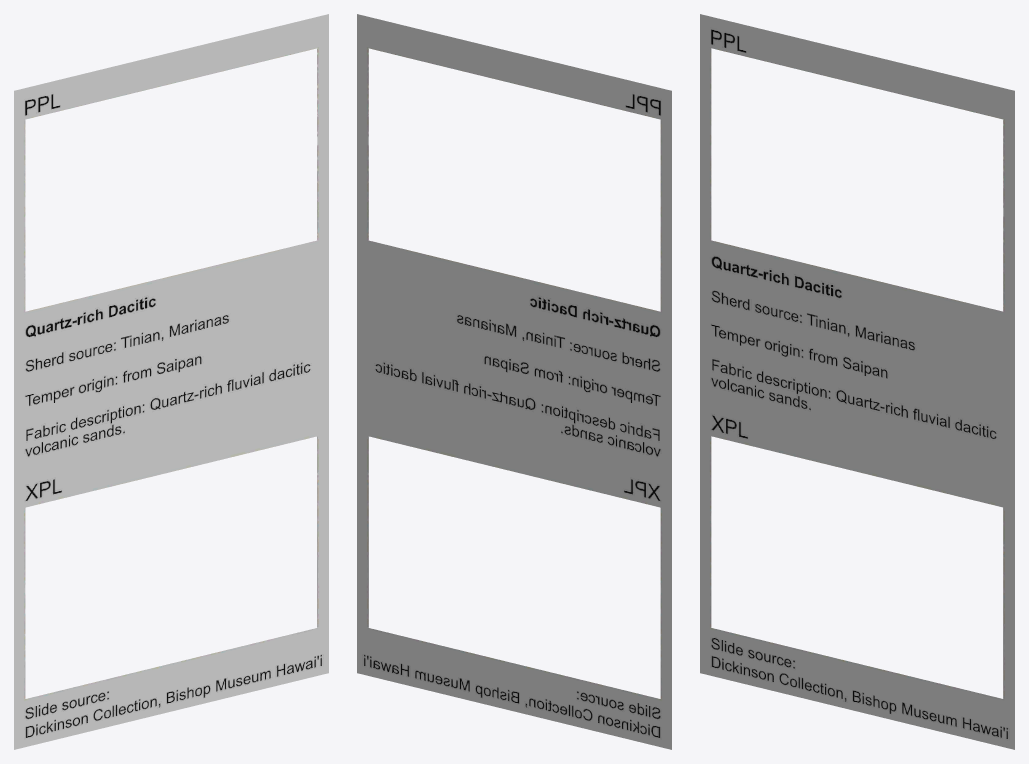
File: wd_2_14_frame.glb
The picture shows the model from 3 angles, left to right: view 1: azimuth 30°, elevation 25°; view 2: azimuth 150°, elevation 25°; view 3: azimuth 330°, elevation 25°; orthographic projection.
Parts seen in each view (by area): view 1: WD_2_14; view 2: WD_2_14; view 3: WD_2_14.
Part boxes in pixels (box(x1,y1,x2,y2)): WD_2_14: box(14, 14, 328, 749); WD_2_14: box(357, 14, 671, 749); WD_2_14: box(700, 14, 1014, 749).
Size of the model in its own units: 0.5 by 1 by 4.37e-08.
Materials: 1 (1 with a texture image).
